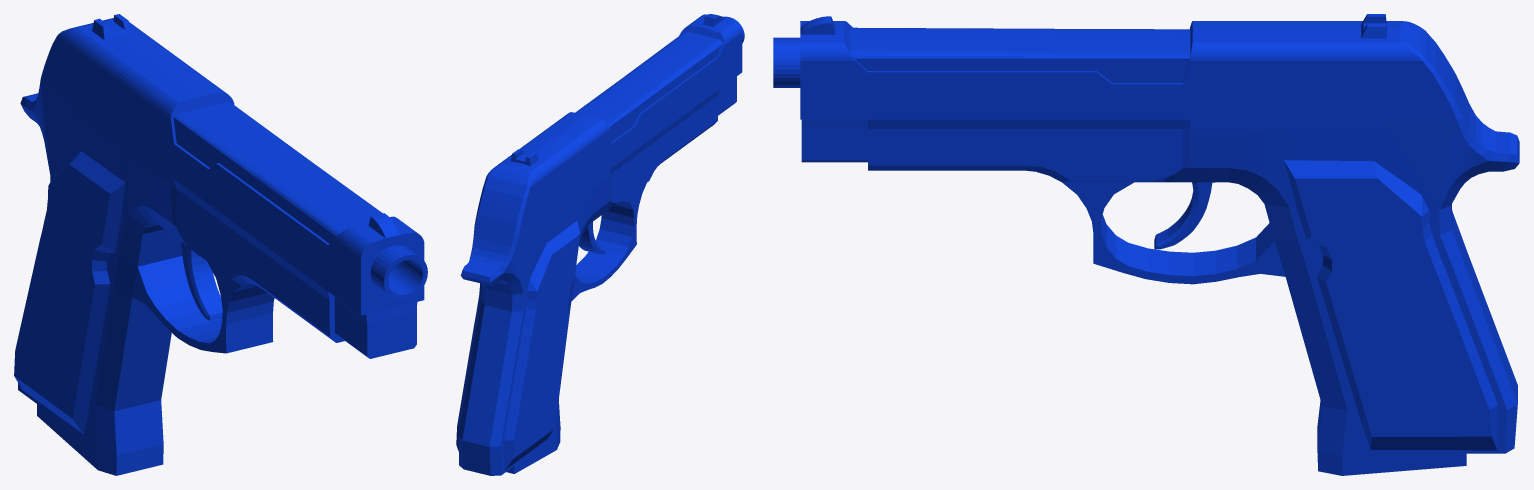
File: Gun3.fbx
The picture shows the model from 3 angles, left to right: view 1: azimuth 30°, elevation 25°; view 2: azimuth 150°, elevation 25°; view 3: azimuth 270°, elevation 25°; orthographic projection. The views are drawn at different scales.
Visible parts, largest first — view 1: Plane; view 2: Plane; view 3: Plane.
Part boxes in pixels (box(x1,y1,x2,y2)): Plane: box(14, 14, 427, 475); Plane: box(456, 14, 744, 475); Plane: box(773, 14, 1519, 475).
Bounding box in the file's own units: 16.63 × 83.65 × 128.
1 material, 1 textured.
